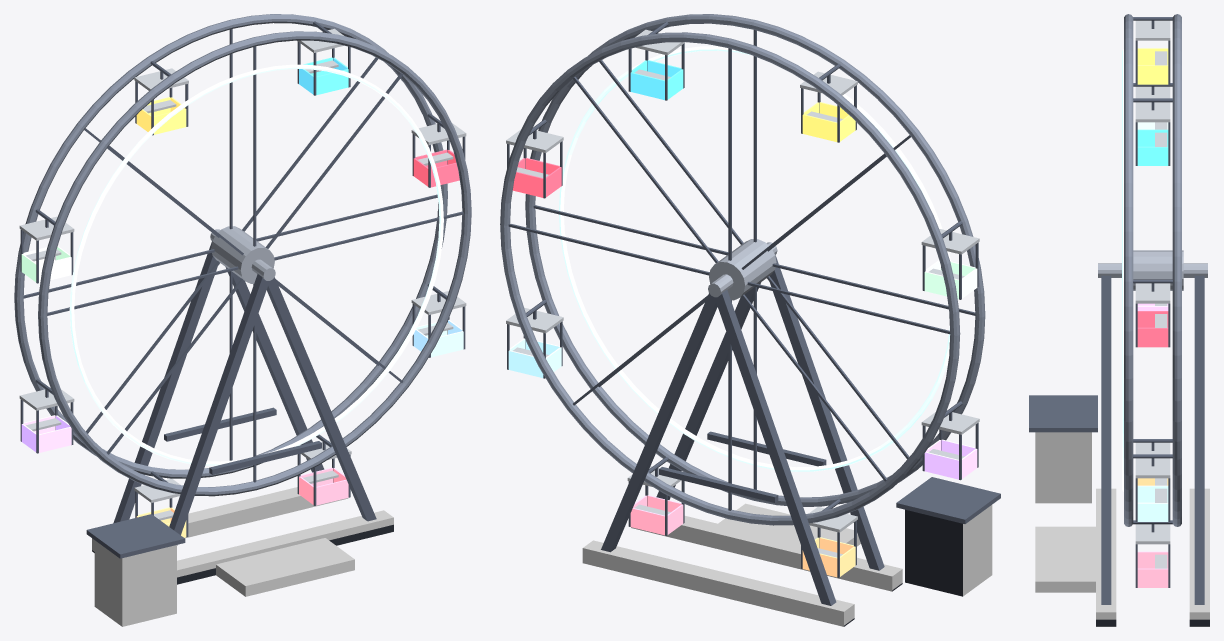
Rendered from ferris_wheel.glb.
3 views of the same model, side by side, from view 1: azimuth 30°, elevation 25°; view 2: azimuth 150°, elevation 25°; view 3: azimuth 270°, elevation 25° (orthographic). The views are drawn at different scales.
Parts seen in each view (by area): view 1: WheelMesh, FerrisFrame, COL_Booth, COL_Deck, COL_Footing_-1.15, COL_Footing_1.15, GondolaMesh_4, GondolaMesh_3, GondolaMesh_0, GondolaMesh_2, GondolaMesh_1, GondolaMesh_7 (+2 smaller); view 2: WheelMesh, FerrisFrame, COL_Footing_1.15, COL_Footing_-1.15, GondolaMesh_4, GondolaMesh_1, GondolaMesh_0, GondolaMesh_2, GondolaMesh_3, GondolaMesh_7, COL_Booth, GondolaMesh_6 (+2 smaller); view 3: WheelMesh, FerrisFrame, COL_Booth, COL_Deck, GondolaMesh_0, GondolaMesh_2, GondolaMesh_1, GondolaMesh_6, GondolaMesh_7, COL_Footing_1.15, COL_Footing_-1.15, GondolaMesh_3 (+1 smaller).
Boxes of the visible parts, bbox=[...] form: WheelMesh: bbox=[14, 14, 471, 496]; FerrisFrame: bbox=[86, 229, 393, 584]; COL_Booth: bbox=[94, 540, 176, 626]; COL_Deck: bbox=[216, 538, 354, 596]; COL_Footing_-1.15: bbox=[177, 510, 393, 577]; COL_Footing_1.15: bbox=[92, 487, 348, 551]; GondolaMesh_4: bbox=[19, 389, 74, 453]; GondolaMesh_3: bbox=[19, 216, 74, 283]; GondolaMesh_0: bbox=[411, 123, 466, 187]; GondolaMesh_2: bbox=[134, 68, 188, 135]; GondolaMesh_1: bbox=[297, 28, 350, 95]; GondolaMesh_7: bbox=[411, 291, 466, 357]; WheelMesh: bbox=[500, 14, 985, 525]; FerrisFrame: bbox=[601, 242, 1000, 626]; COL_Footing_1.15: bbox=[582, 540, 854, 626]; COL_Footing_-1.15: bbox=[631, 516, 902, 591]; GondolaMesh_4: bbox=[921, 412, 979, 480]; GondolaMesh_1: bbox=[628, 29, 685, 100]; GondolaMesh_0: bbox=[506, 129, 563, 198]; GondolaMesh_2: bbox=[800, 71, 857, 142]; GondolaMesh_3: bbox=[921, 229, 979, 299]; GondolaMesh_7: bbox=[506, 307, 563, 378]; COL_Booth: bbox=[963, 505, 992, 596]; GondolaMesh_6: bbox=[627, 466, 684, 535]; WheelMesh: bbox=[1122, 14, 1183, 526]; FerrisFrame: bbox=[1029, 263, 1209, 626]; COL_Booth: bbox=[1035, 432, 1091, 503]; COL_Deck: bbox=[1035, 526, 1095, 592]; GondolaMesh_0: bbox=[1135, 283, 1170, 347]; GondolaMesh_2: bbox=[1135, 20, 1170, 84]; GondolaMesh_1: bbox=[1135, 102, 1170, 165]; GondolaMesh_6: bbox=[1135, 524, 1170, 587]; GondolaMesh_7: bbox=[1135, 458, 1170, 521]; COL_Footing_1.15: bbox=[1189, 488, 1209, 626]; COL_Footing_-1.15: bbox=[1096, 488, 1116, 626]; GondolaMesh_3: bbox=[1135, 86, 1170, 129].
Bounding box in the file's own units: 12.64 × 14.37 × 4.45.
